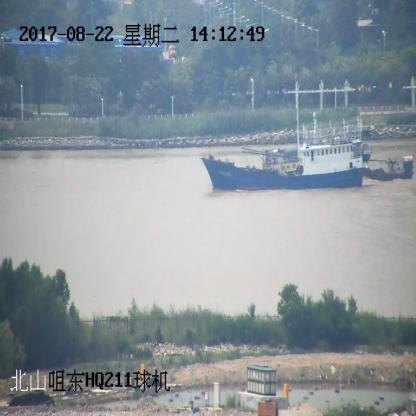Fishing Boat: (200, 74, 368, 188), (364, 154, 416, 180)
